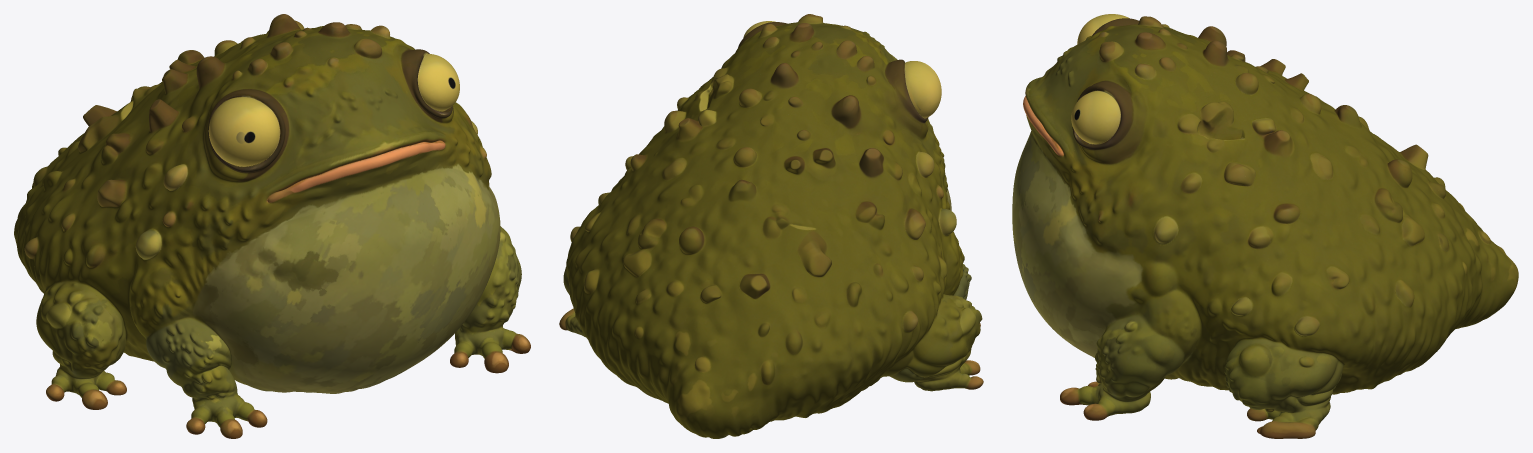
The model's file is Meshy_AI_Chubby_Toad_1021162230_image-to-3d-texture.glb.
3 views of the same model, side by side, from view 1: azimuth 30°, elevation 25°; view 2: azimuth 150°, elevation 25°; view 3: azimuth 270°, elevation 25° (orthographic). The views are drawn at different scales.
Bounding box in the file's own units: 1.81 × 1.31 × 1.9.
1 material, 1 textured.
